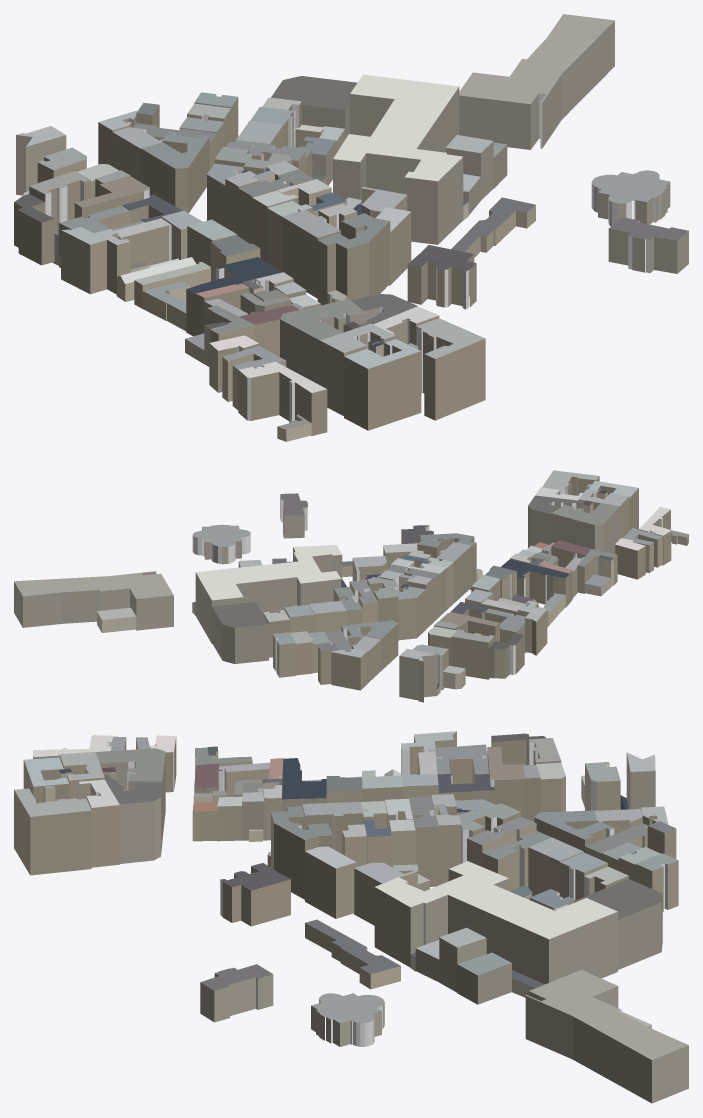
3 views of the same model, one above another, from view 1: azimuth 30°, elevation 25°; view 2: azimuth 150°, elevation 25°; view 3: azimuth 270°, elevation 25° (orthographic). The views are drawn at different scales.
Visible parts, largest first — view 1: tuile; view 2: tuile; view 3: tuile.
Part boxes in pixels (box(x1,y1,x2,y2)): tuile: box(14, 14, 688, 441); tuile: box(14, 470, 688, 702); tuile: box(14, 731, 688, 1103).
Size of the model in its own units: 291 by 35.51 by 270.
